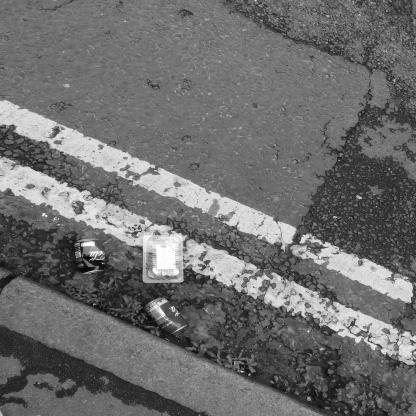metal: (66, 233, 108, 280), (145, 293, 188, 337)
plastic: (140, 233, 186, 284)
